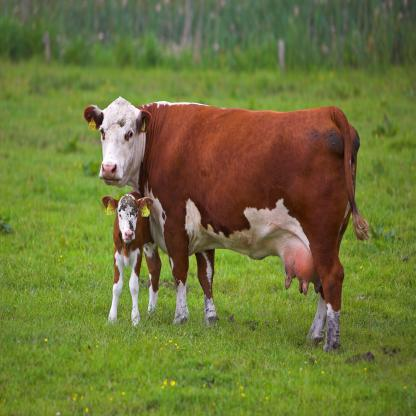cow: (83, 100, 360, 351), (102, 193, 162, 327)
